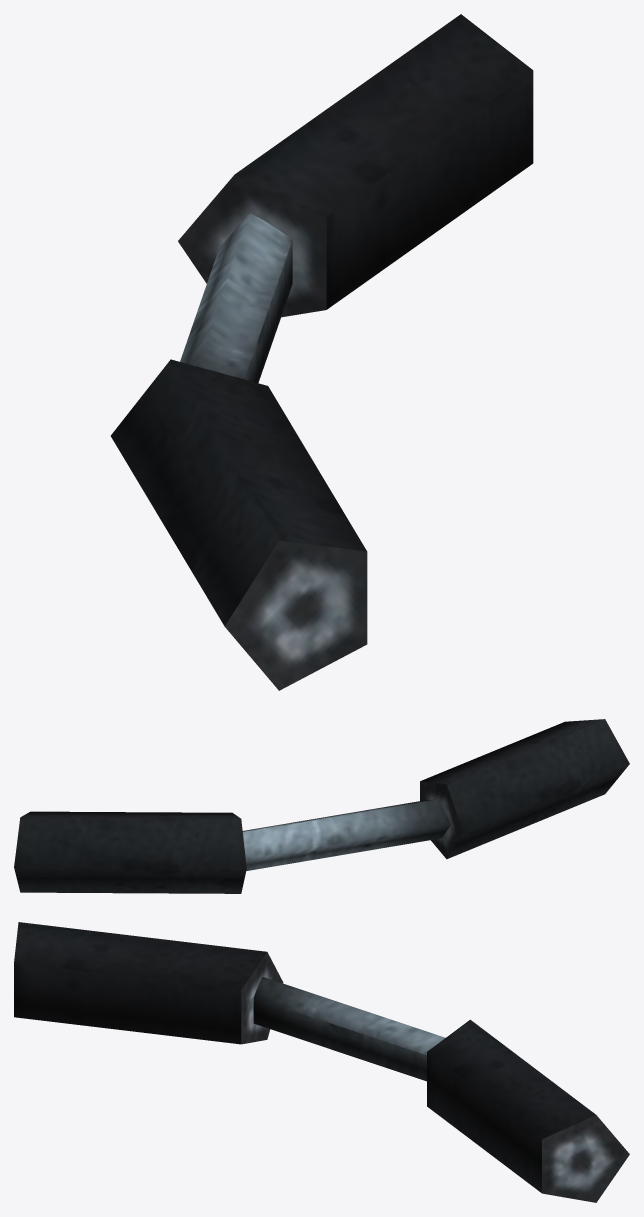
The model's file is wreck04.FBX.
The picture shows the model from 3 angles, top to bottom: view 1: azimuth 30°, elevation 25°; view 2: azimuth 150°, elevation 25°; view 3: azimuth 270°, elevation 25°; orthographic projection. The views are drawn at different scales.
Parts seen in each view (by area): view 1: wreck04; view 2: wreck04; view 3: wreck04.
Boxes of the visible parts, x1,y1,x2,y2 form: wreck04: (111, 14, 533, 690); wreck04: (14, 719, 629, 893); wreck04: (14, 922, 629, 1202).
Bounding box in the file's own units: 14.68 × 2.8 × 17.76.
